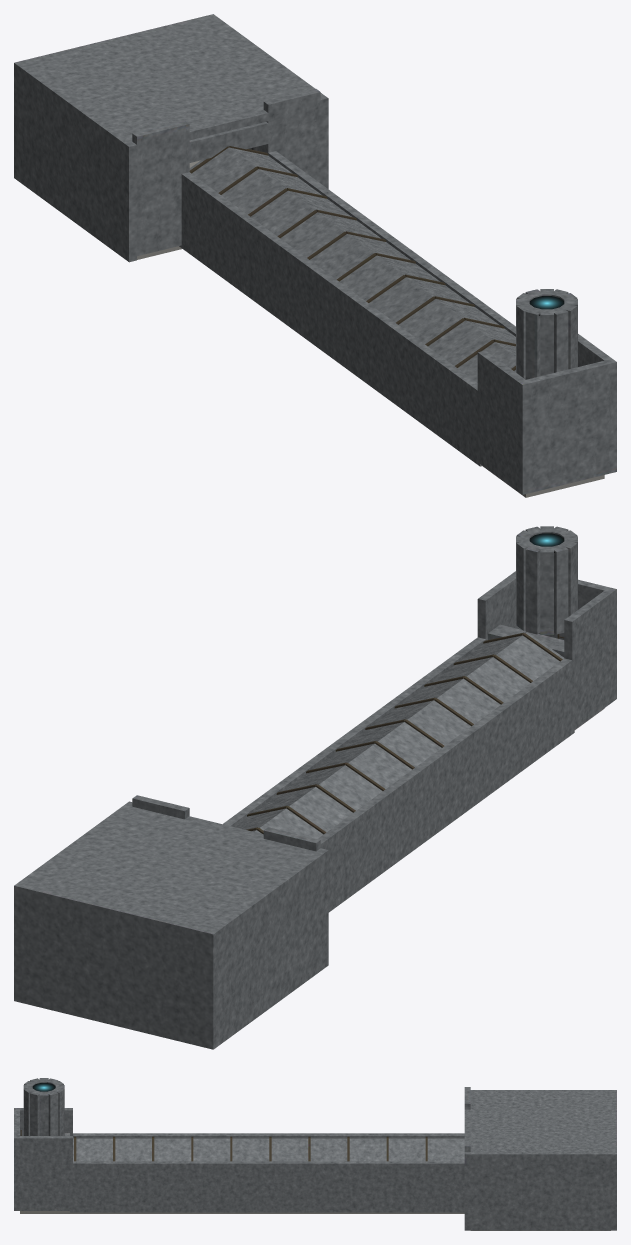
File: helikon_grid.glb
3 renders of one model, top to bottom at view 1: azimuth 30°, elevation 25°; view 2: azimuth 150°, elevation 25°; view 3: azimuth 270°, elevation 25°, orthographic. The views are drawn at different scales.
Visible parts, largest first — view 1: grid_interior; view 2: grid_interior; view 3: grid_interior.
Part boxes in pixels (x1=…): grid_interior: x1=14, y1=14, x2=616, y2=497; grid_interior: x1=14, y1=526, x2=616, y2=1049; grid_interior: x1=14, y1=1078, x2=616, y2=1230.
Size of the model in its own units: 15.2 by 12.6 by 60.2.
Materials: 2 (2 with a texture image).
